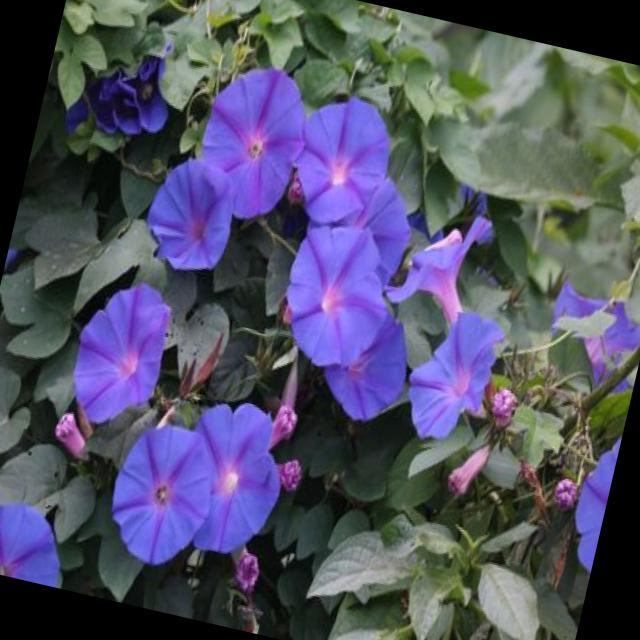ipomoea: (182, 51, 322, 232), (165, 388, 300, 568), (266, 210, 406, 382), (94, 410, 228, 578), (56, 267, 184, 441), (281, 82, 404, 238), (393, 298, 510, 456), (134, 146, 248, 284), (554, 418, 622, 586), (0, 486, 77, 586)
